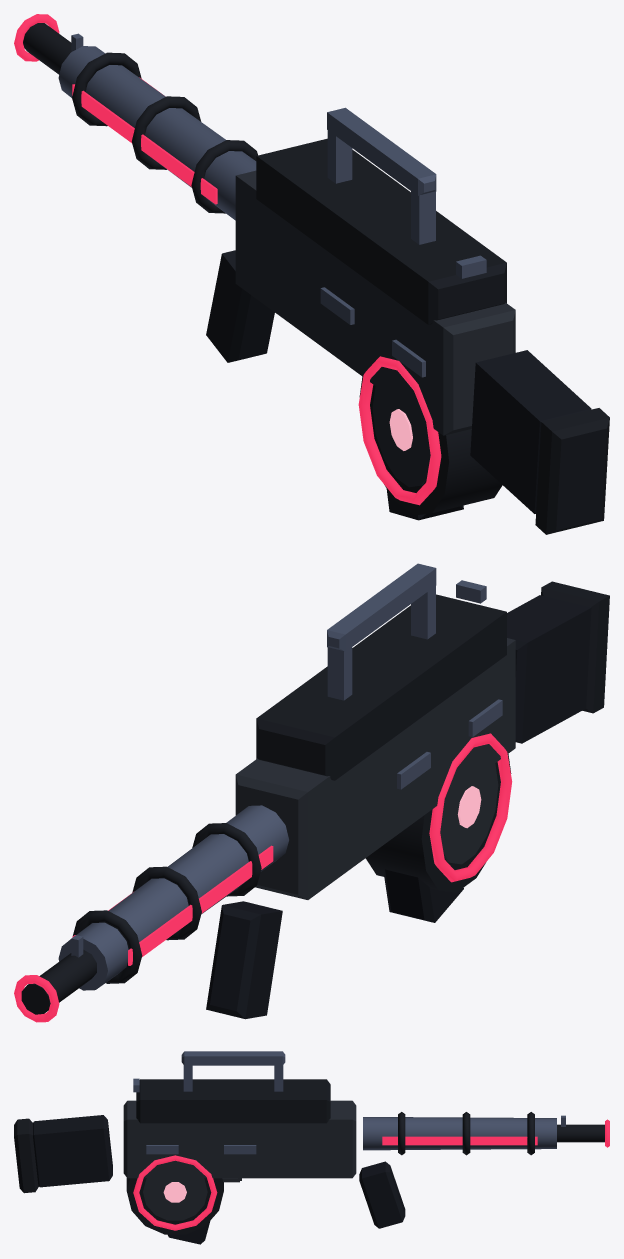
File: weapon_devastator.glb
3 views of the same model, one above another, from view 1: azimuth 30°, elevation 25°; view 2: azimuth 150°, elevation 25°; view 3: azimuth 270°, elevation 25° (orthographic). The views are drawn at different scales.
Visible parts, largest first — view 1: weapon_devastator; view 2: weapon_devastator; view 3: weapon_devastator.
Boxes of the visible parts, box(x1,y1,x2,y2) form: weapon_devastator: box(14, 14, 609, 534); weapon_devastator: box(14, 563, 609, 1022); weapon_devastator: box(14, 1051, 609, 1244).
Size of the model in its own units: 0.078 by 0.3151 by 0.9211.
